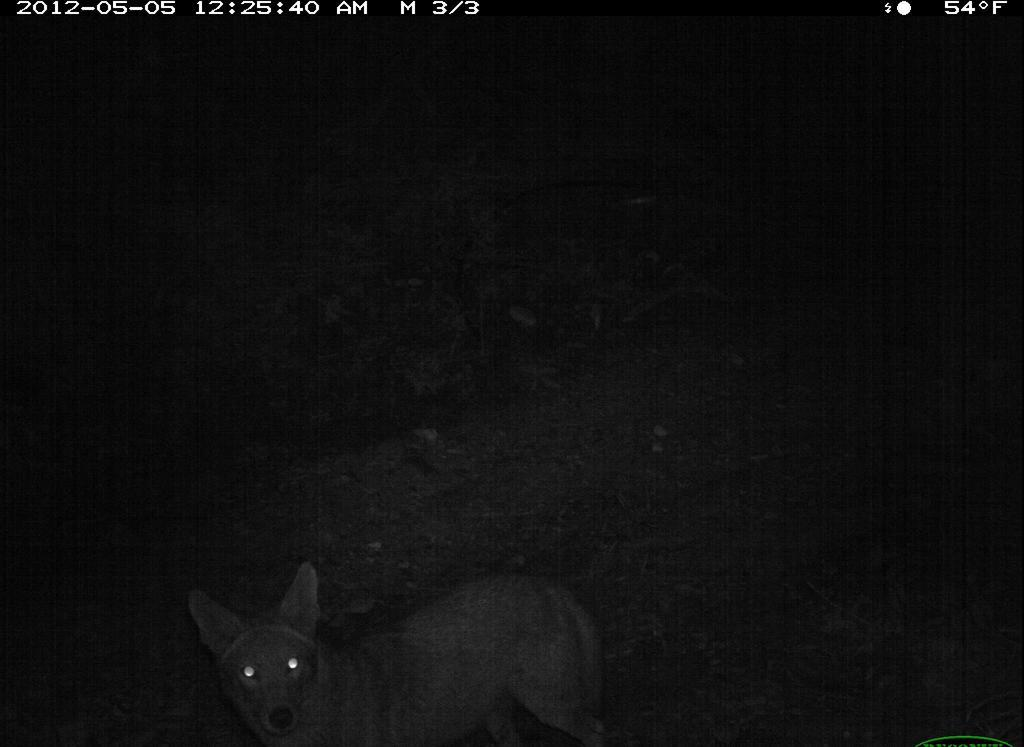coyote: (158, 557, 630, 747)
